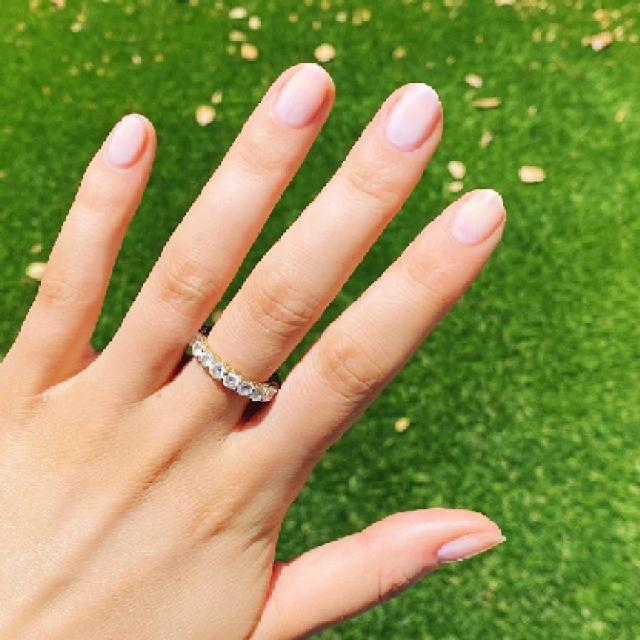Nail: (385, 84, 441, 151), (274, 64, 330, 128), (451, 190, 505, 245), (106, 114, 146, 169), (436, 532, 504, 562)
